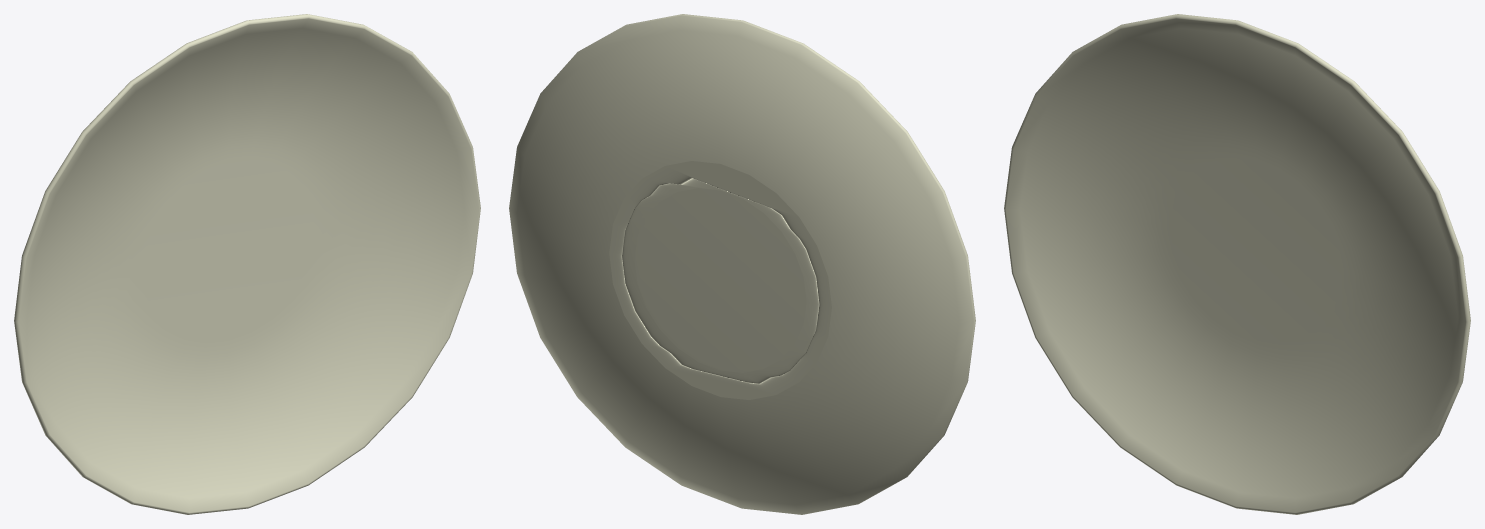
Rendered from original-6.obj.
3 views of the same model, side by side, from view 1: azimuth 30°, elevation 25°; view 2: azimuth 150°, elevation 25°; view 3: azimuth 330°, elevation 25° (orthographic).
Parts seen in each view (by area): view 1: Component_210_1/Component_210/mesh4/mesh4-geometry#mesh4-geometr; view 2: Component_210_1/Component_210/mesh4/mesh4-geometry#mesh4-geometr; view 3: Component_210_1/Component_210/mesh4/mesh4-geometry#mesh4-geometr.
Part boxes in pixels (x1,y1,x2,y2): Component_210_1/Component_210/mesh4/mesh4-geometry#mesh4-geometr: (14,14,480,514); Component_210_1/Component_210/mesh4/mesh4-geometry#mesh4-geometr: (509,14,975,514); Component_210_1/Component_210/mesh4/mesh4-geometry#mesh4-geometr: (1004,14,1470,514).
Bounding box in the file's own units: 0.419 × 0.419 × 0.0366.
